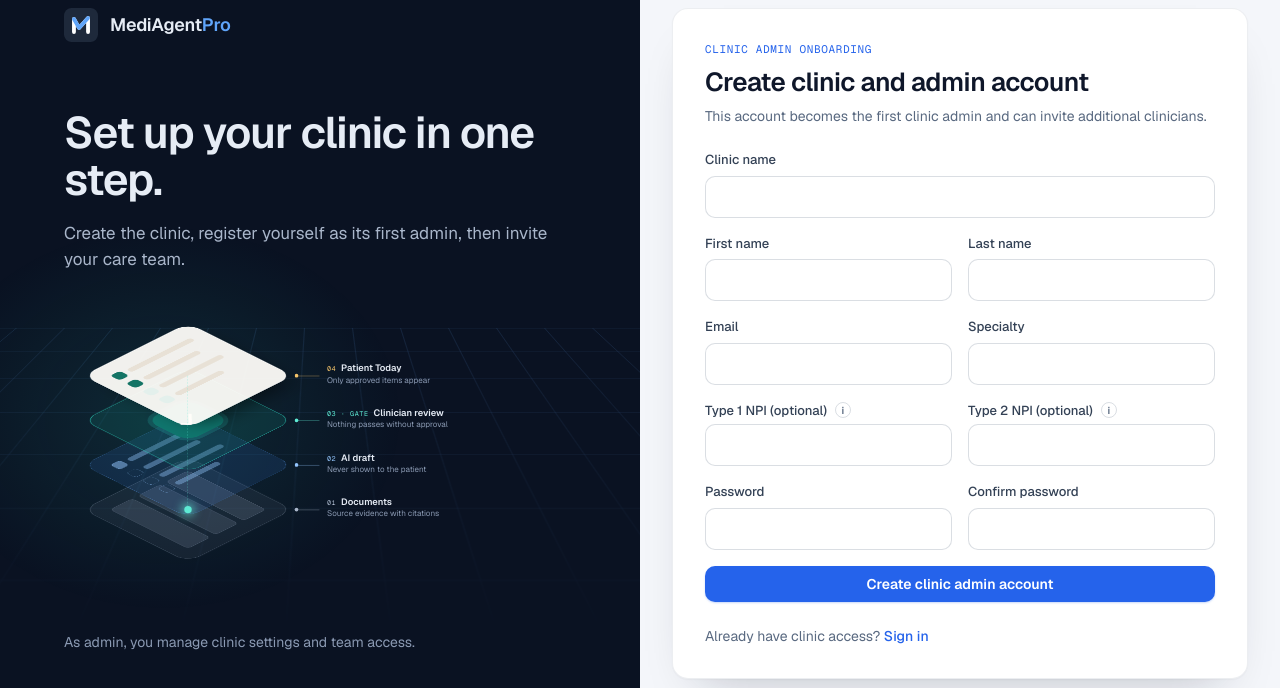
Scenario: Clinic admin signup page › shows existing-clinic guidance when clinic is already provisioned
The image size is (1280, 688).
Type "City Health" into the field labelled "Clinic name" at [960, 196], box x1=705 y1=176 x2=1215 y2=218
Type "Amina" into the field labelled "First name" at [828, 280], box x1=705 y1=259 x2=952 y2=301
Type "Khan" into the field labelled "Last name" at [1092, 280], box x1=968 y1=259 x2=1215 y2=301
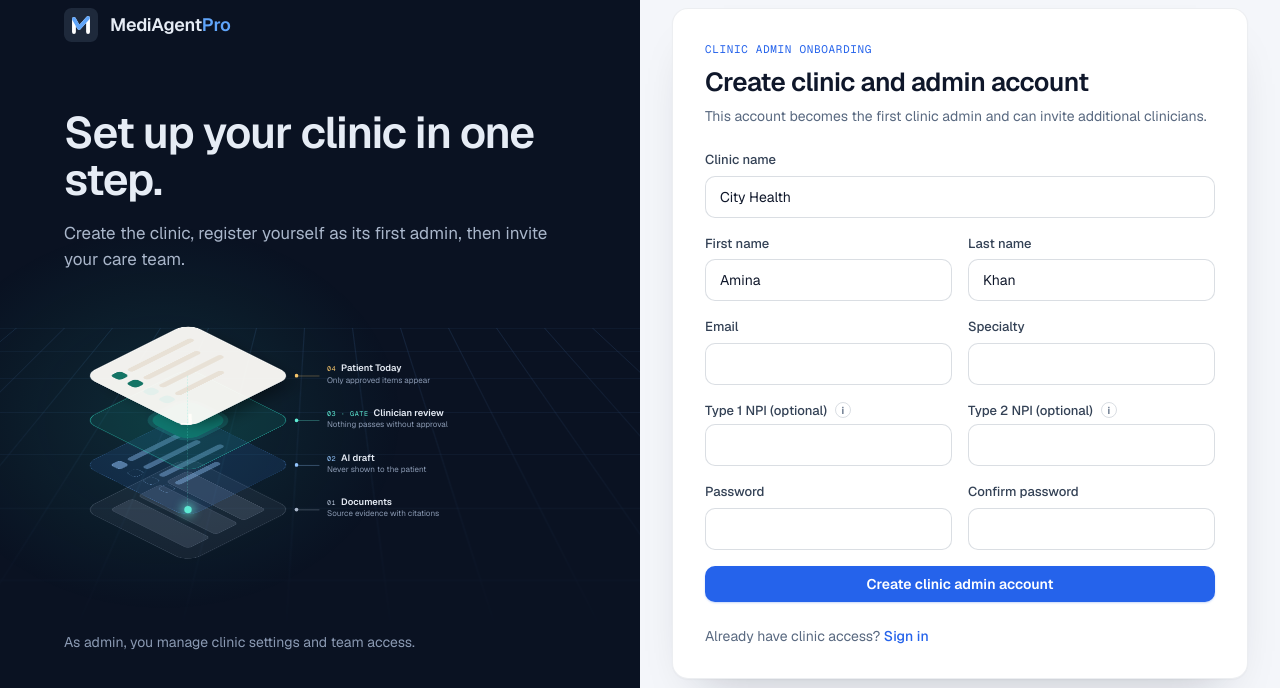
Type "admin@example.com" into the field labelled "Email" at [828, 364], box x1=705 y1=342 x2=952 y2=384
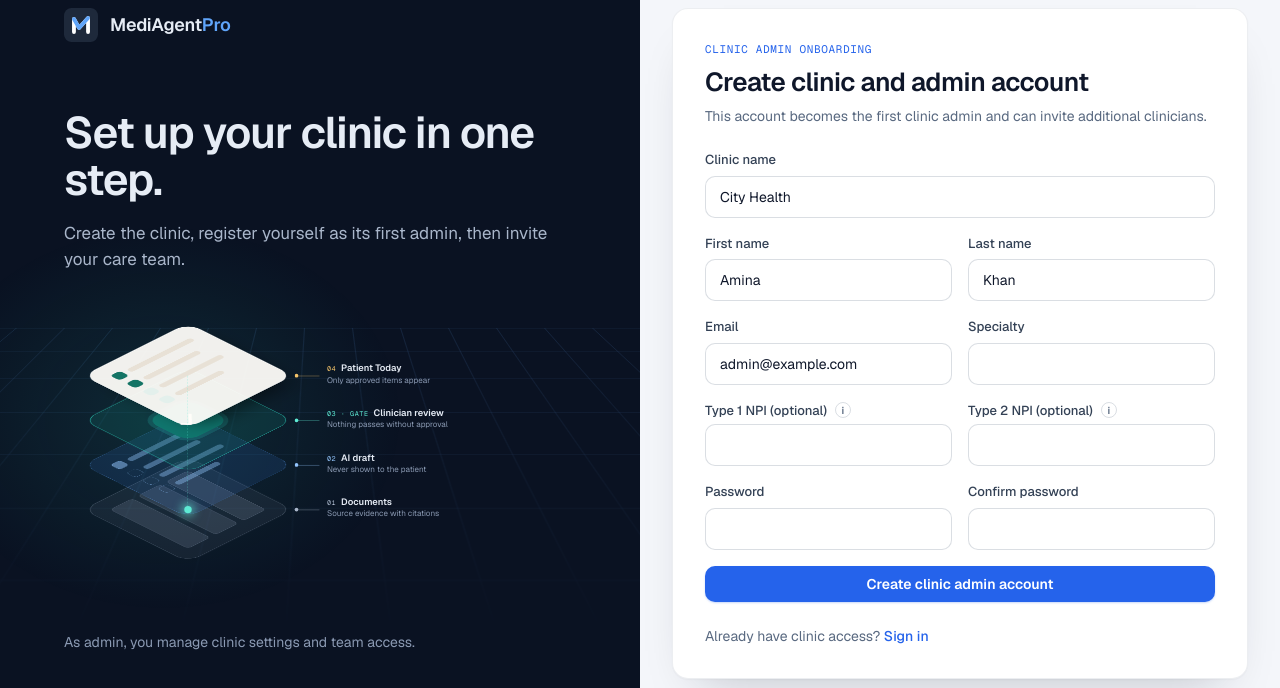
Type "Primary Care" into the field labelled "Specialty" at [1092, 364], box x1=968 y1=342 x2=1215 y2=384
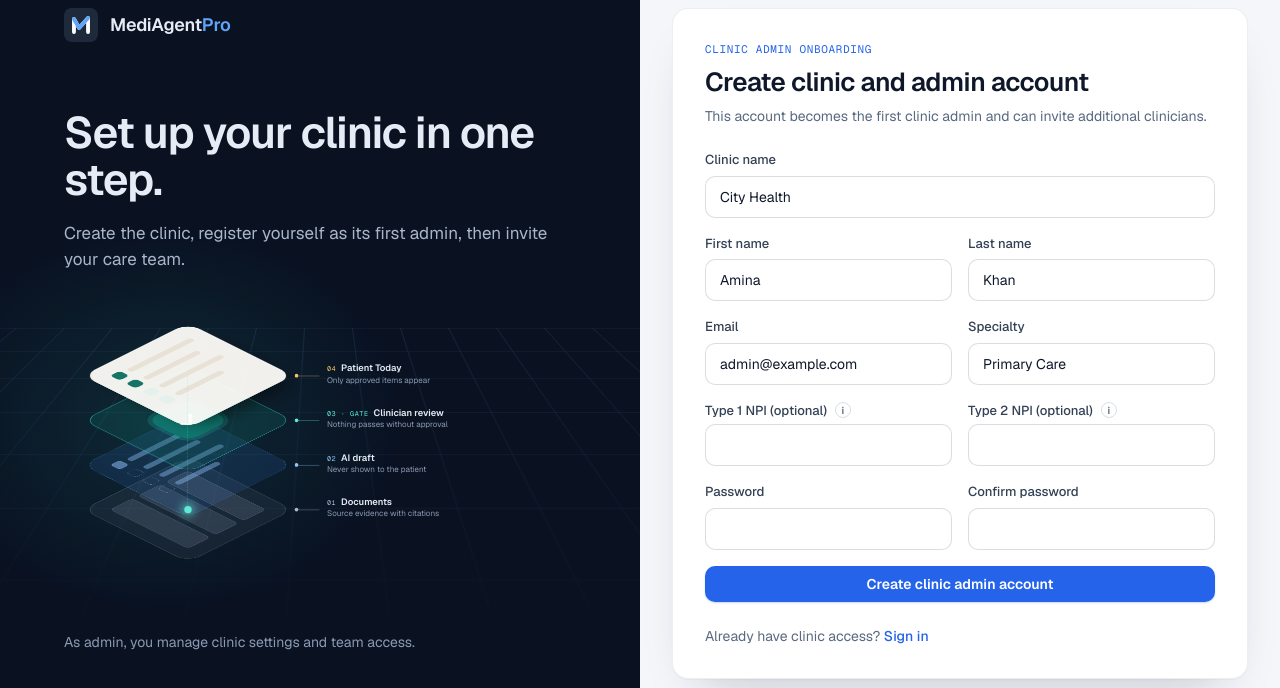
Type "SecurePass123!" into the password field labelled "Password" at [828, 528], box x1=705 y1=508 x2=952 y2=550
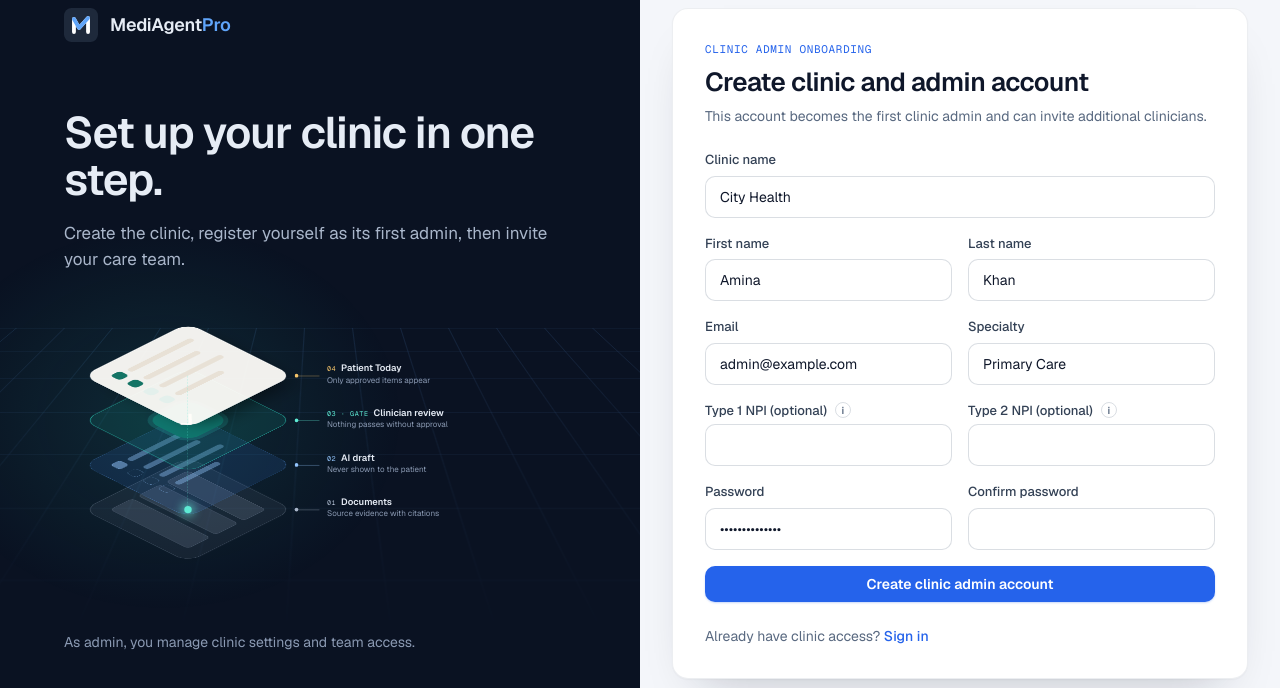
Type "SecurePass123!" into the password field labelled "Confirm password" at [1092, 528], box x1=968 y1=508 x2=1215 y2=550
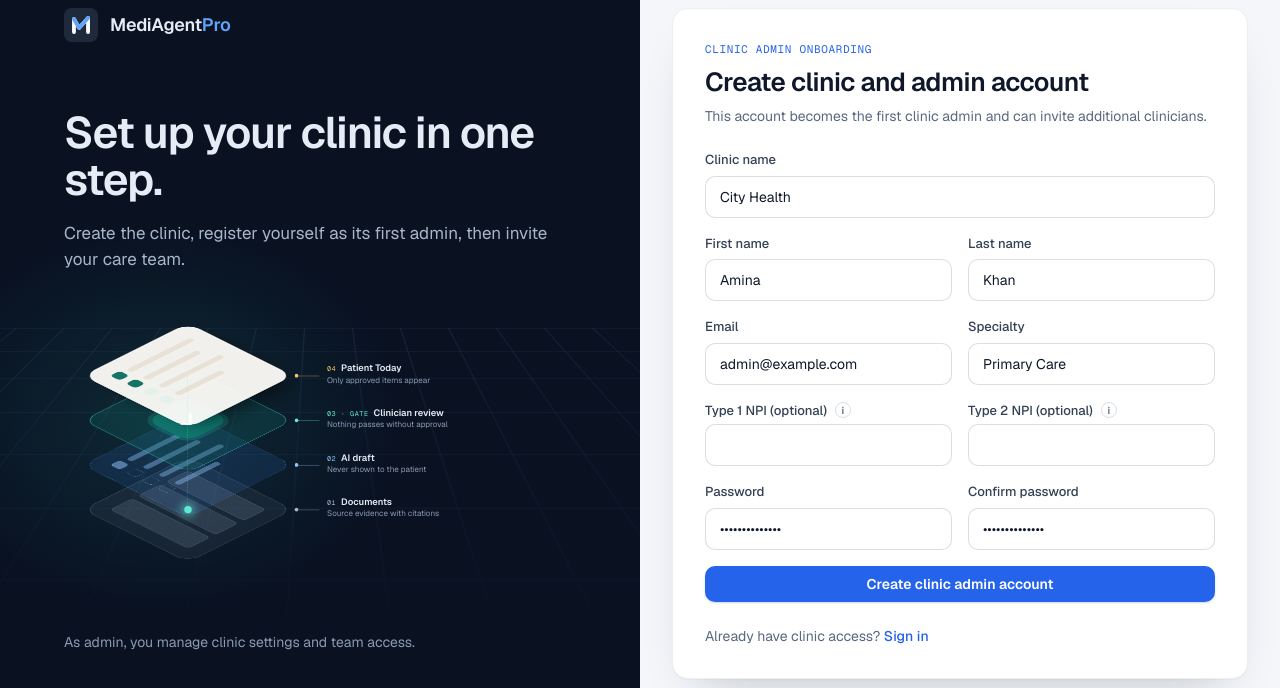
Click the button "Create clinic admin account" at [960, 584], box x1=705 y1=566 x2=1215 y2=602
(page scrolled)
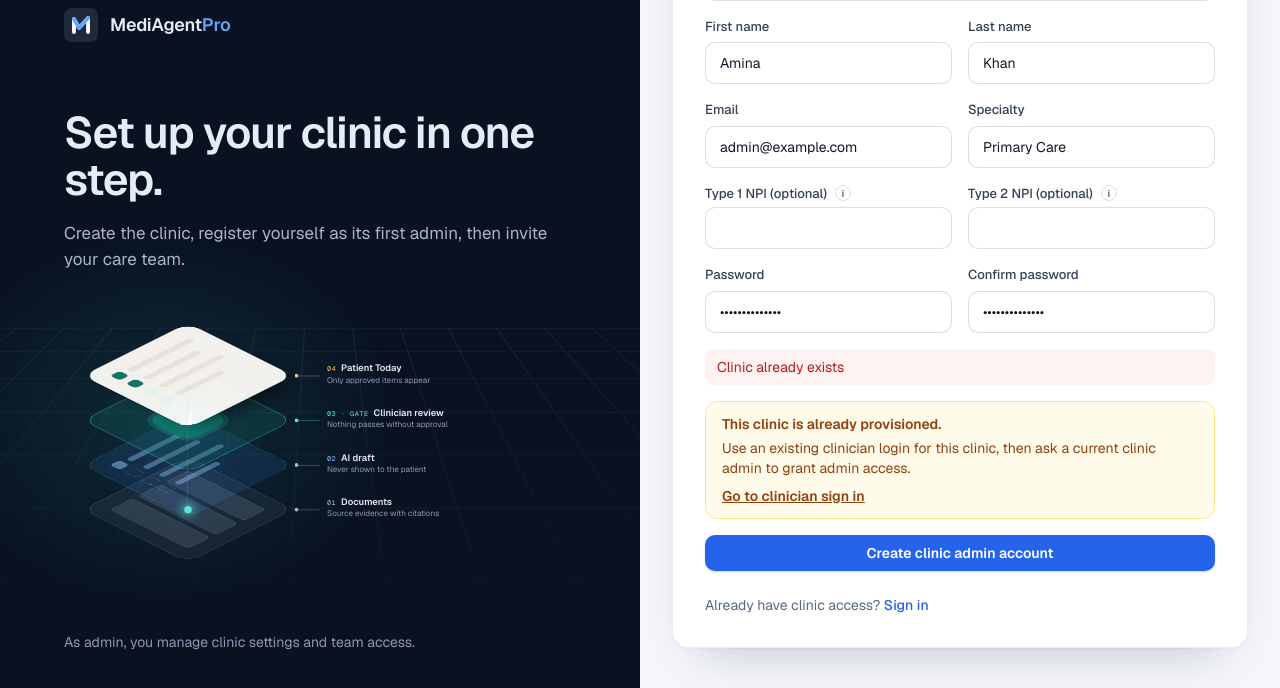
Now the text "Clinic already exists" is shown, box x1=705 y1=348 x2=1215 y2=384
Now the text "This clinic is already provisioned." is shown, box x1=722 y1=414 x2=941 y2=432
Now the link "Go to clinician sign in" is shown, box x1=722 y1=486 x2=865 y2=506
